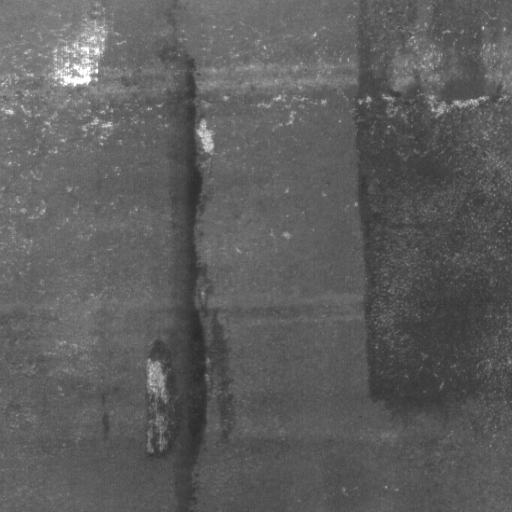qiaopi: (142, 337, 182, 461)
